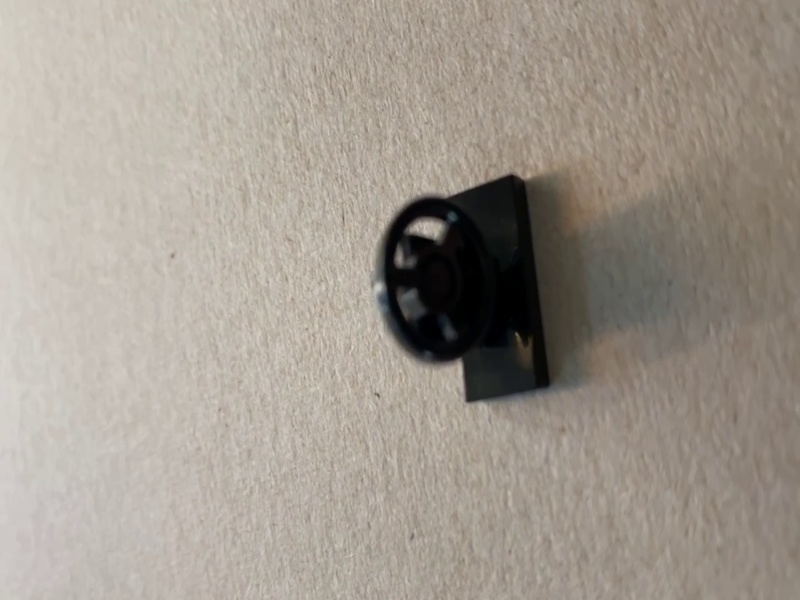steering wheel: (376, 174, 552, 403)
